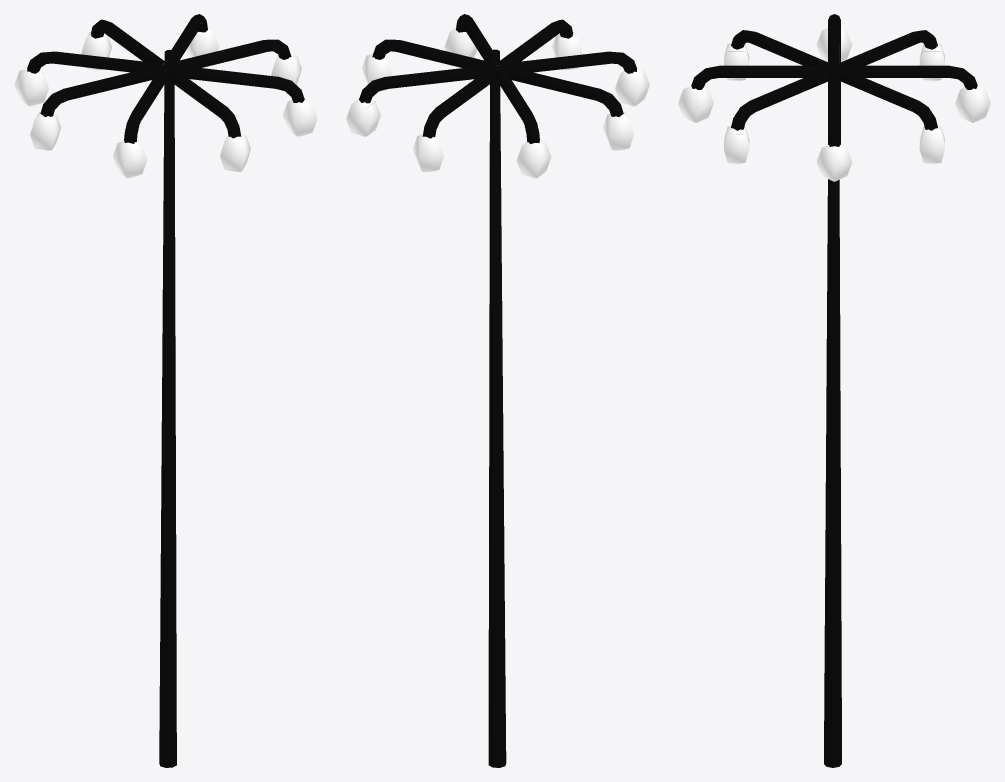
Rendered from lamp_big.glb.
3 renders of one model, left to right at view 1: azimuth 30°, elevation 25°; view 2: azimuth 150°, elevation 25°; view 3: azimuth 270°, elevation 25°, orthographic.
Visible parts, largest first — view 1: BigPole_BigPole_0; view 2: BigPole_BigPole_0; view 3: BigPole_BigPole_0.
Boxes of the visible parts, left/top/right/bottom form: BigPole_BigPole_0: left=14, top=14, right=317, bottom=767; BigPole_BigPole_0: left=346, top=14, right=649, bottom=767; BigPole_BigPole_0: left=678, top=14, right=990, bottom=767.
Size of the model in its own units: 10 by 25 by 10.
Materials: 1 (1 with a texture image).
